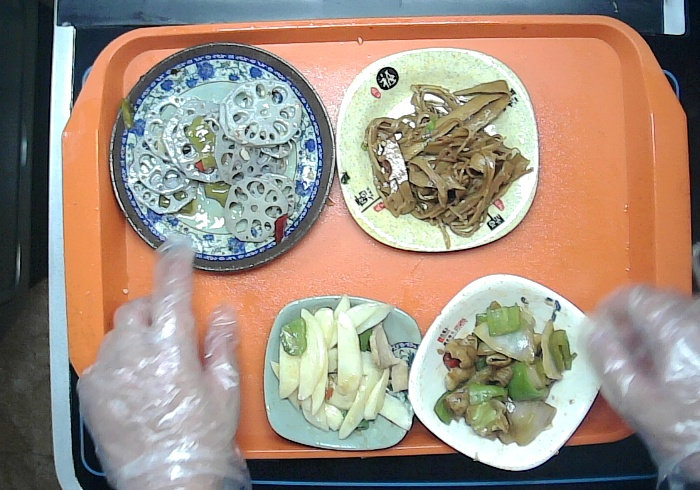NLDX-Bai_Se_Xiao_Fang_Die: (406, 273, 610, 470)
NLDX-Fu_Zi_Fang_Die: (335, 42, 542, 254)
NLDX-Qing_Hua_Xiao_Fang_Die: (261, 293, 422, 453)
NLDX-Qing_Hua_Yuan_Die: (107, 37, 336, 276)
